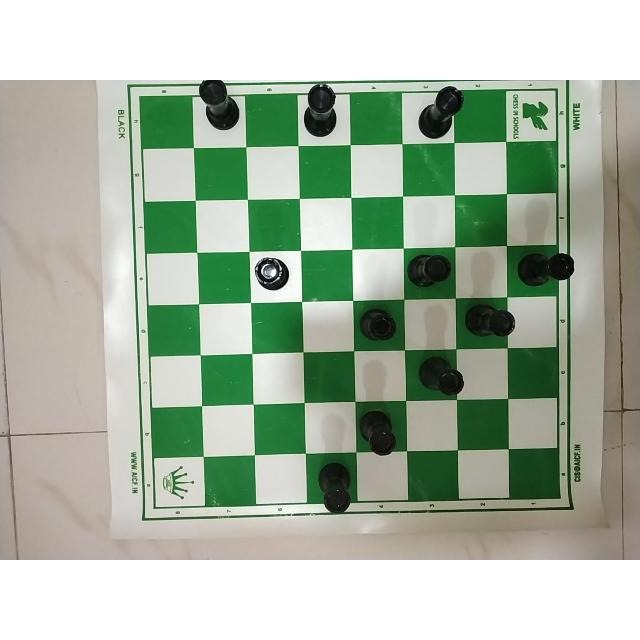black-rook: (514, 248, 576, 296), (413, 83, 465, 140), (195, 81, 245, 133), (416, 353, 466, 401), (300, 83, 343, 137), (313, 458, 355, 513), (356, 407, 400, 459), (463, 301, 519, 340), (408, 250, 456, 294), (250, 253, 292, 295), (354, 308, 397, 348)
